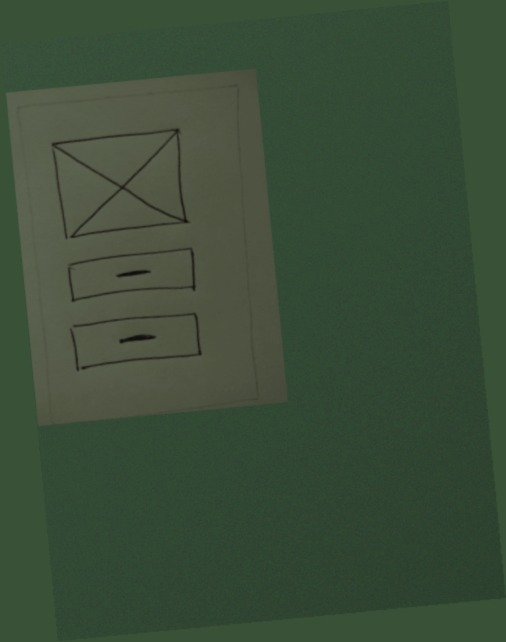button: (64, 307, 208, 377), (61, 245, 199, 306)
image: (48, 123, 195, 245)
